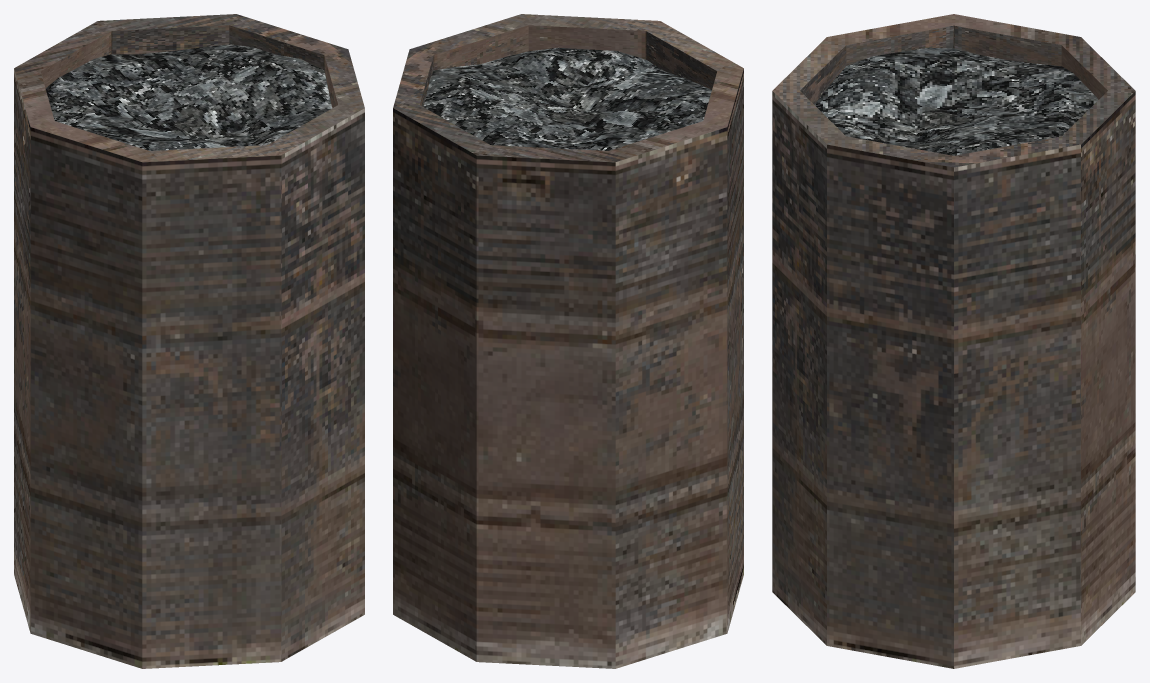
File: OilBarrel1.glb
The picture shows the model from 3 angles, left to right: view 1: azimuth 30°, elevation 25°; view 2: azimuth 150°, elevation 25°; view 3: azimuth 270°, elevation 25°; orthographic projection.
Parts seen in each view (by area): view 1: BarrelMesh; view 2: BarrelMesh; view 3: BarrelMesh.
Boxes of the visible parts, bbox=[...] form: BarrelMesh: bbox=[14, 14, 364, 668]; BarrelMesh: bbox=[393, 14, 743, 668]; BarrelMesh: bbox=[772, 14, 1135, 668].
Bounding box in the file's own units: 1.52 × 2.31 × 1.52.
2 materials, 2 textured.
